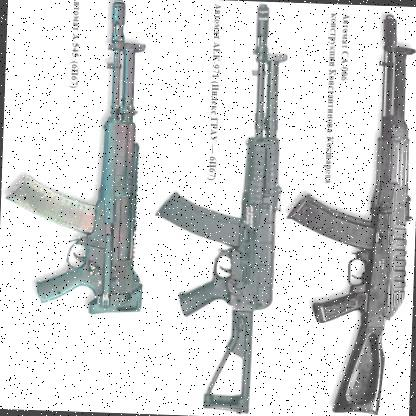rifle: (271, 7, 416, 416), (157, 3, 295, 412), (0, 0, 165, 318)
